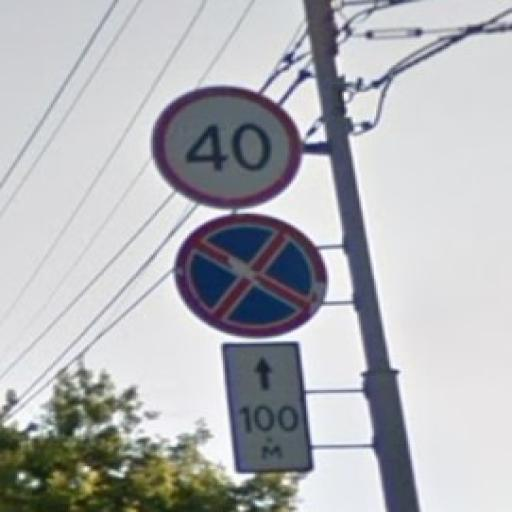traffic_sign: (149, 85, 306, 212), (177, 215, 330, 339)
